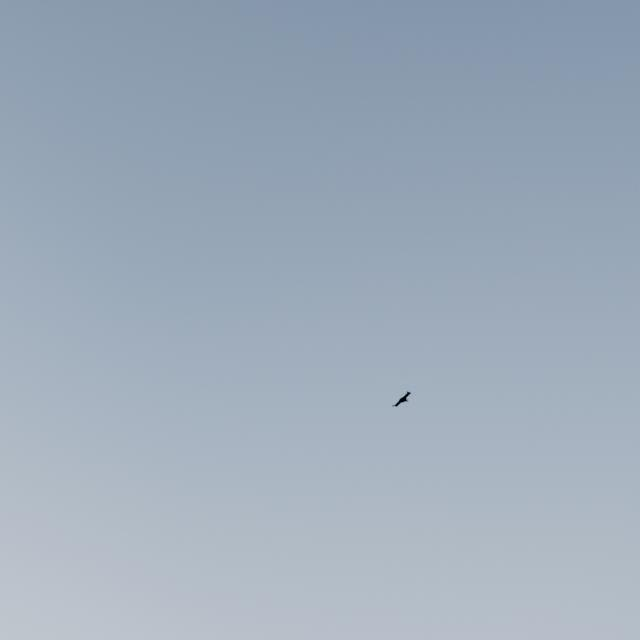Airaplan: (392, 391, 411, 407)
